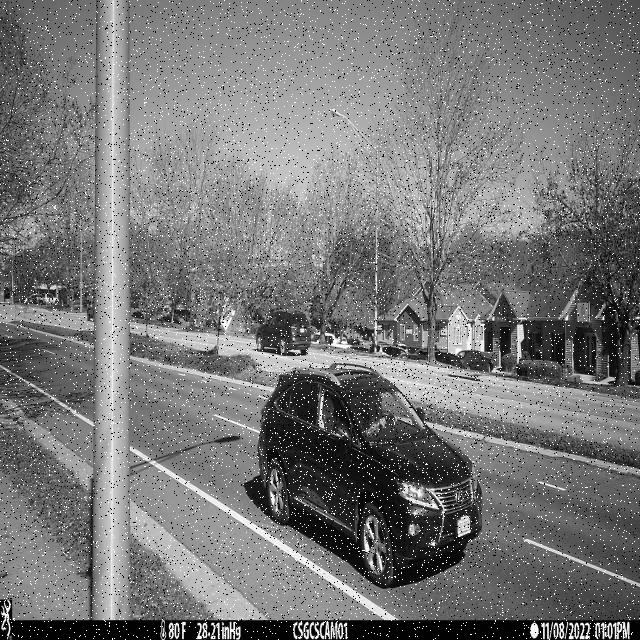SUV: (257, 363, 482, 590)
